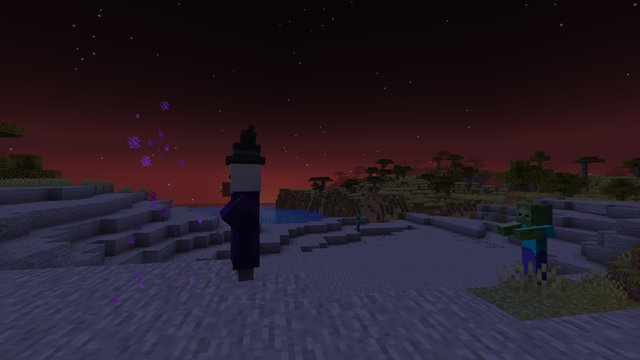sorcieres: (222, 158, 263, 283)
zombies: (513, 204, 556, 287), (355, 216, 361, 232)
